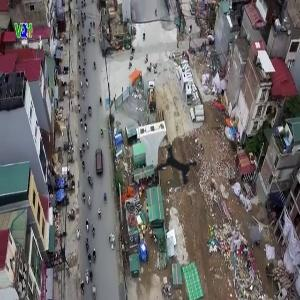drone: (135, 124, 225, 214)
